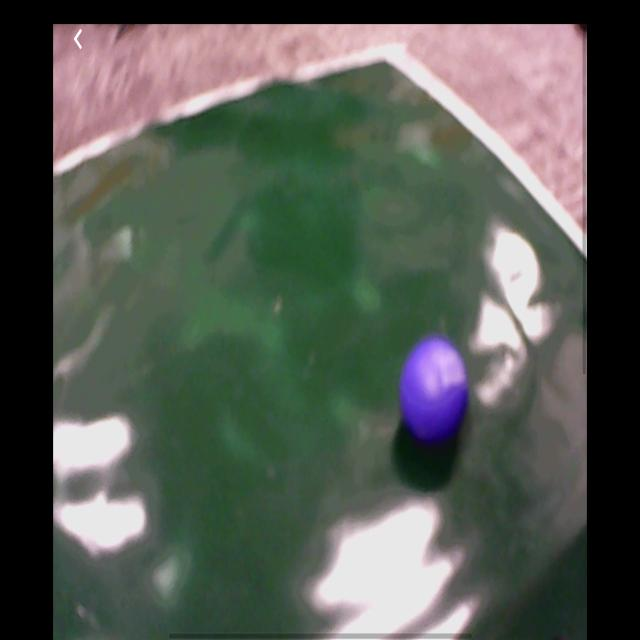ball: (400, 338, 469, 444)
